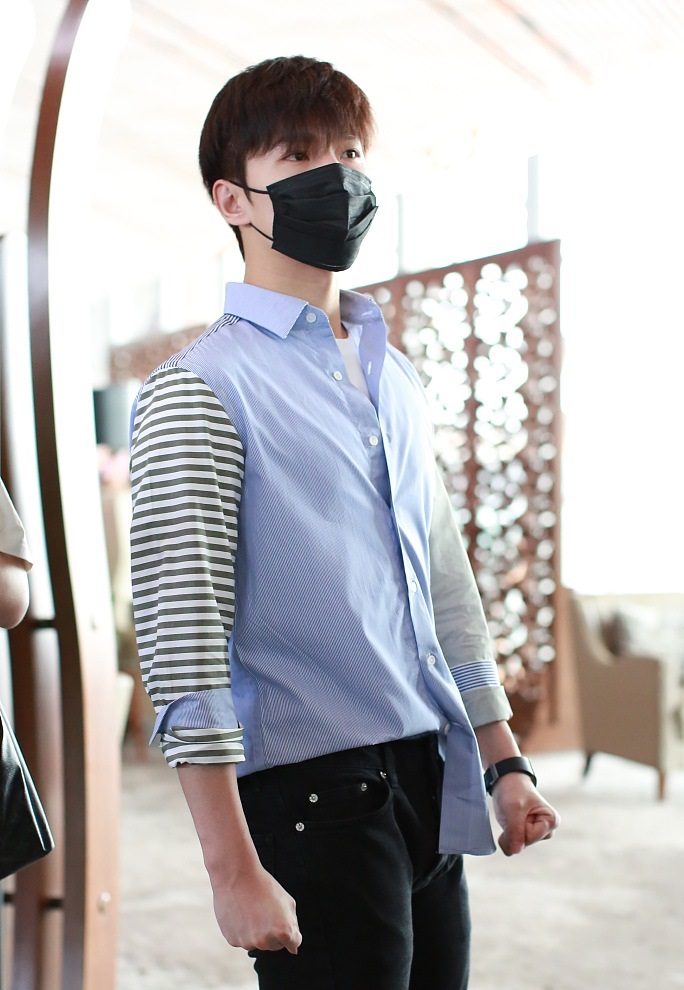face_mask: (268, 133, 377, 271)
